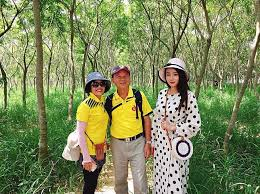people: (153, 58, 199, 194), (107, 65, 152, 194), (71, 72, 106, 194)
